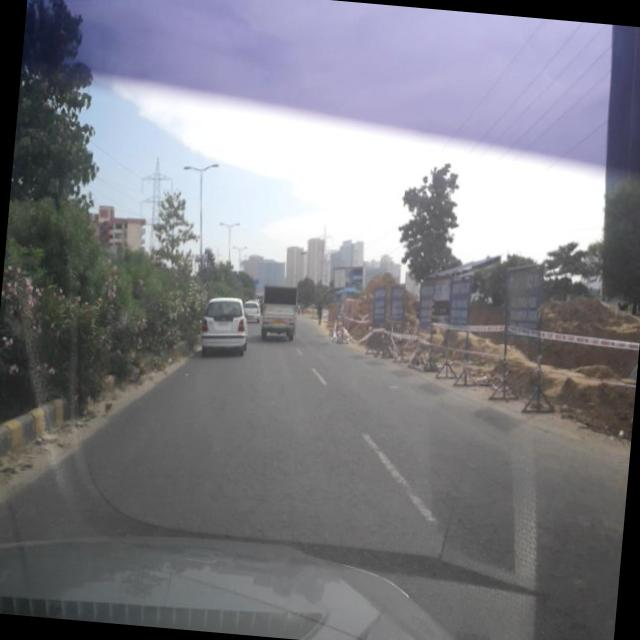crack: (66, 396, 398, 560), (388, 423, 620, 640)
